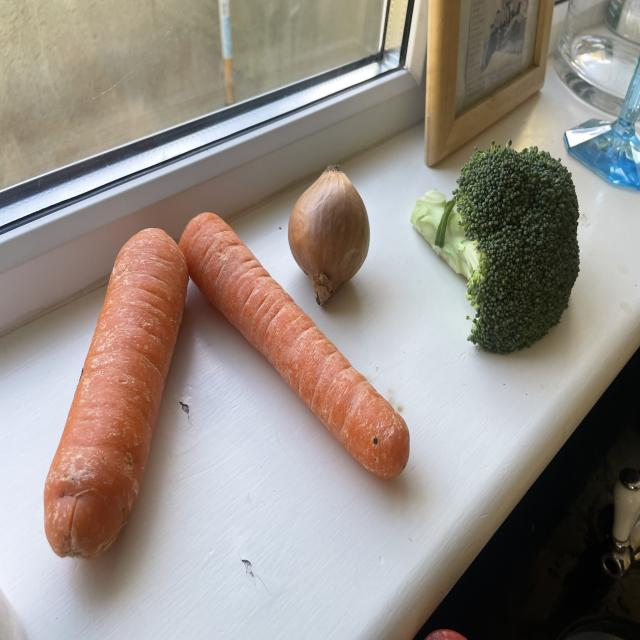Broccoli: (408, 136, 581, 354)
Carrot: (180, 211, 412, 483), (41, 225, 190, 560)
Onion: (286, 161, 372, 304)
